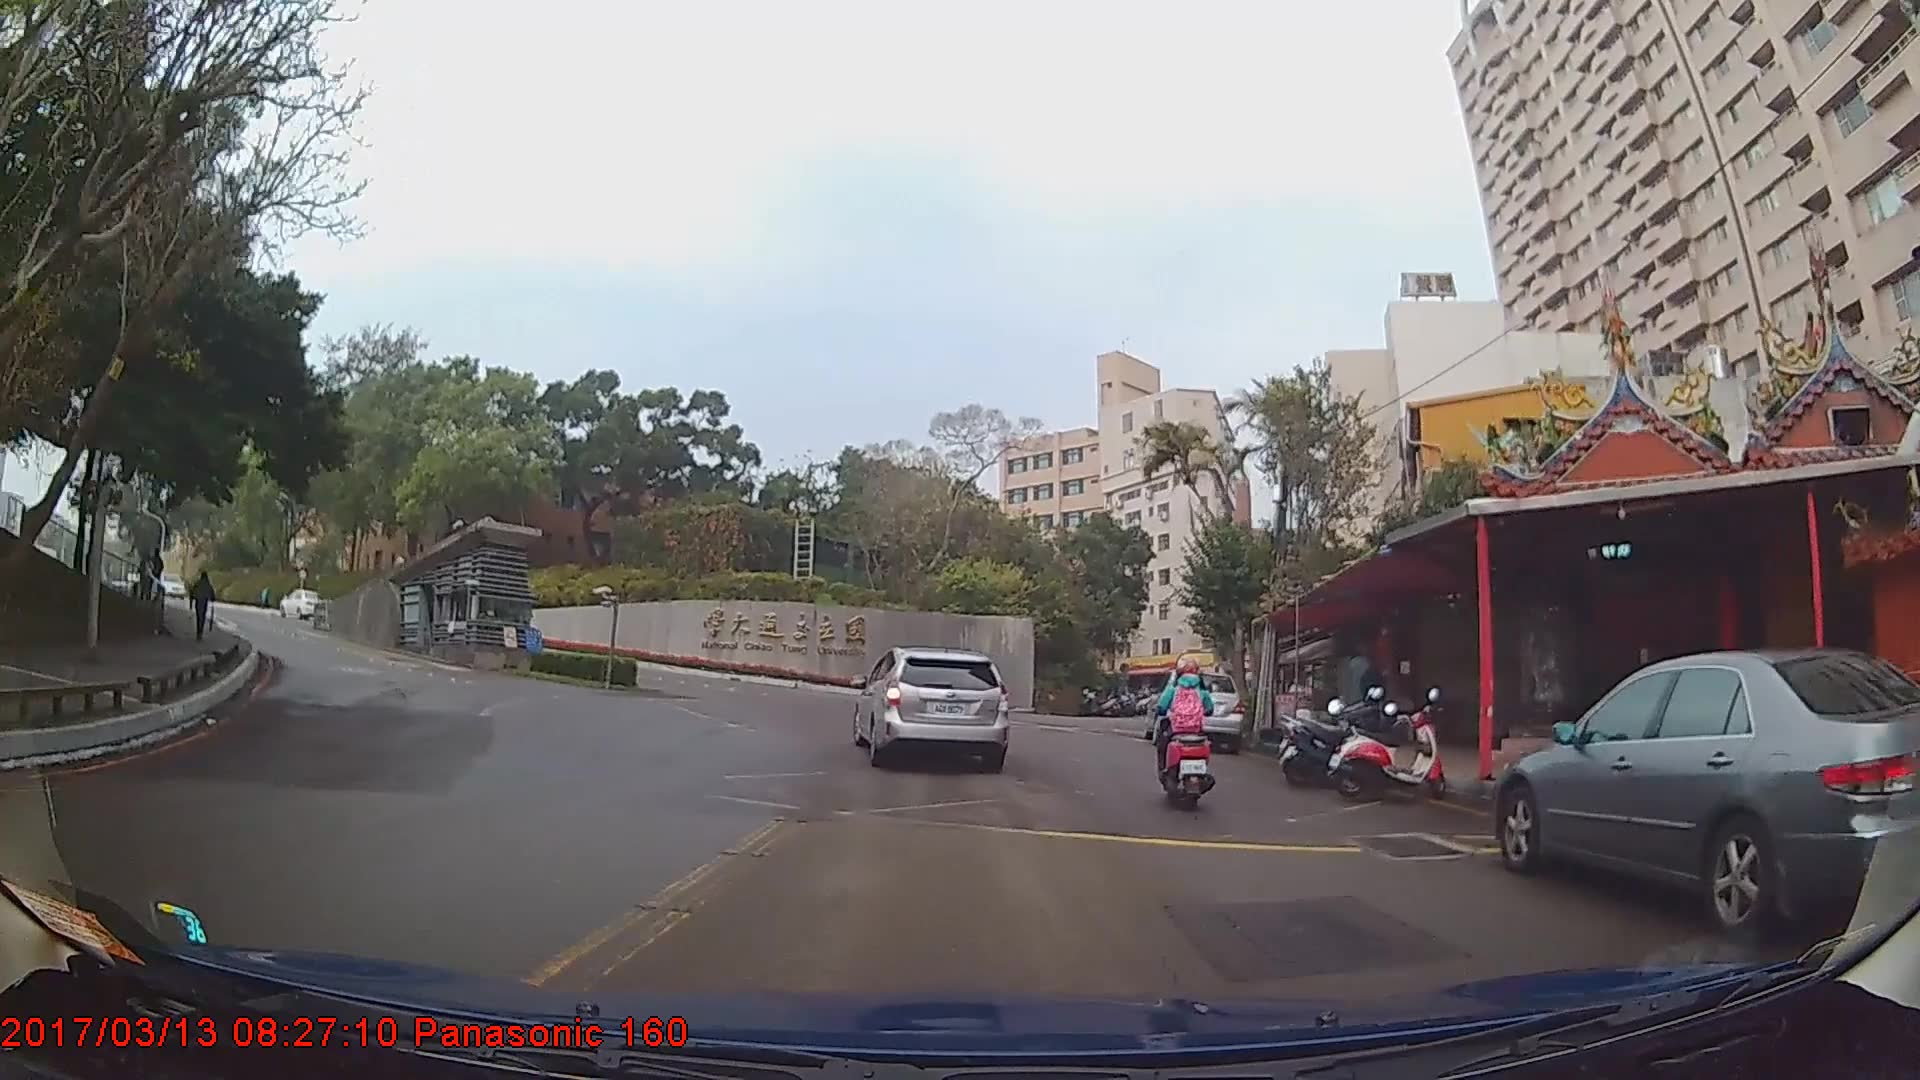pedestrian: (1356, 651, 1394, 747), (189, 573, 217, 644), (138, 545, 158, 606), (149, 547, 169, 602)
rider: (1149, 650, 1223, 811)
vehicle: (1499, 644, 1920, 947), (850, 643, 1006, 769), (1143, 665, 1243, 749), (279, 589, 326, 619)
